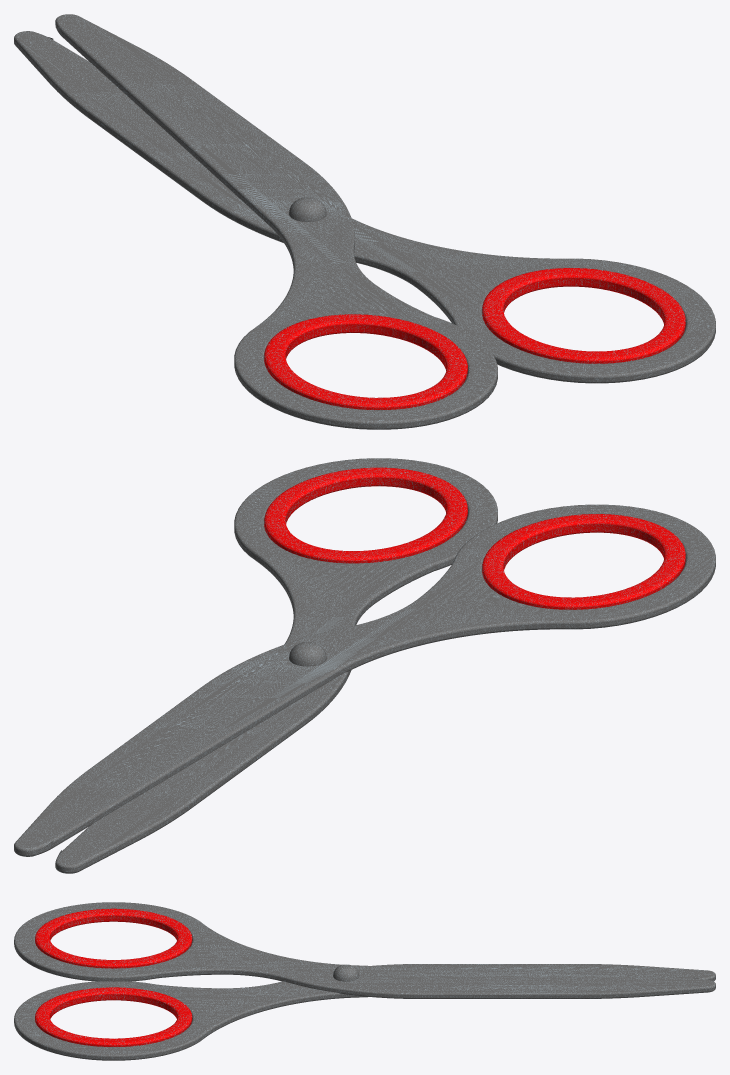
Rendered from Scissor.dae.
The picture shows the model from 3 angles, top to bottom: view 1: azimuth 30°, elevation 25°; view 2: azimuth 150°, elevation 25°; view 3: azimuth 270°, elevation 25°; orthographic projection. The views are drawn at different scales.
Visible parts, largest first — view 1: Component_8 (×2), Component_6 (×4), Component_9; view 2: Component_8 (×2), Component_6 (×4), Component_9; view 3: Component_8 (×2), Component_6 (×4), Component_9.
Boxes of the visible parts, x1,y1,x2,y2 form: Component_8 (×2): [14, 14, 715, 429]; Component_6 (×4): [264, 268, 685, 410]; Component_9: [289, 197, 326, 221]; Component_8 (×2): [14, 458, 715, 873]; Component_6 (×4): [264, 467, 685, 609]; Component_9: [289, 642, 326, 666]; Component_8 (×2): [14, 902, 715, 1060]; Component_6 (×4): [35, 908, 192, 1046]; Component_9: [333, 964, 359, 981].
Size of the model in its own units: 6777 by 13484 by 427.
